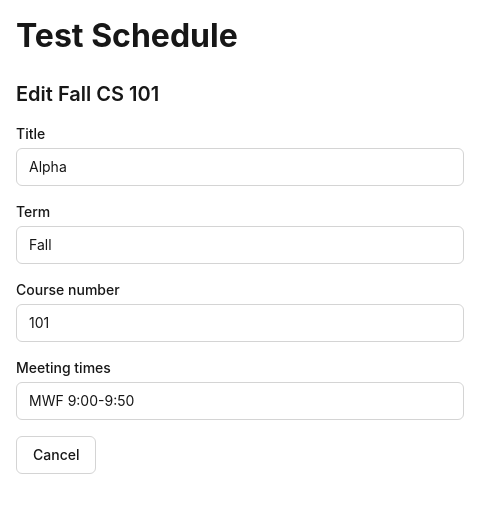
Test: Edit course validation › shows and clears a term error as the user edits
The width and height of the screenshot is (481, 515).
Check: the heading "Test Schedule" is shown, box [16,16,238,55]
Replace the text in the field labelled "Term" with "Autumn" at (240, 244), box [16,226,464,264]
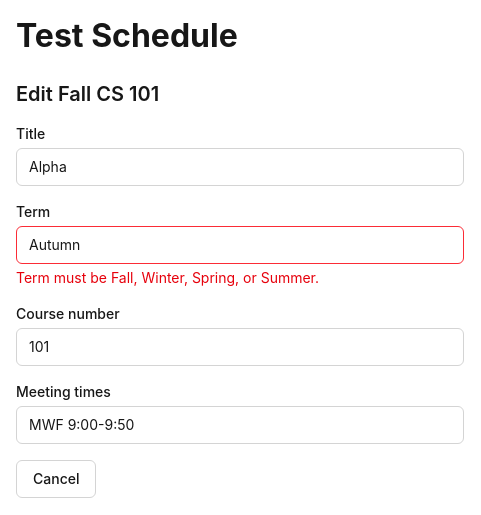
Check: the text "Term must be Fall, Winter, Spring, or Summer." is shown, box [16,268,319,286]
Replace the text in the field labelled "Term" with "Winter" at (240, 244), box [16,226,464,264]
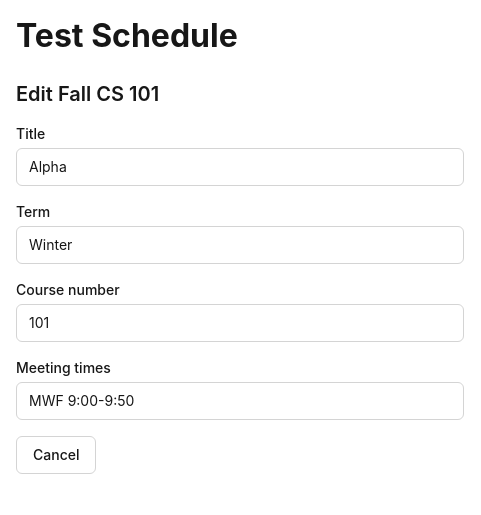
Check: the text "Fall, Winter, Spring, or Summer" is gone
